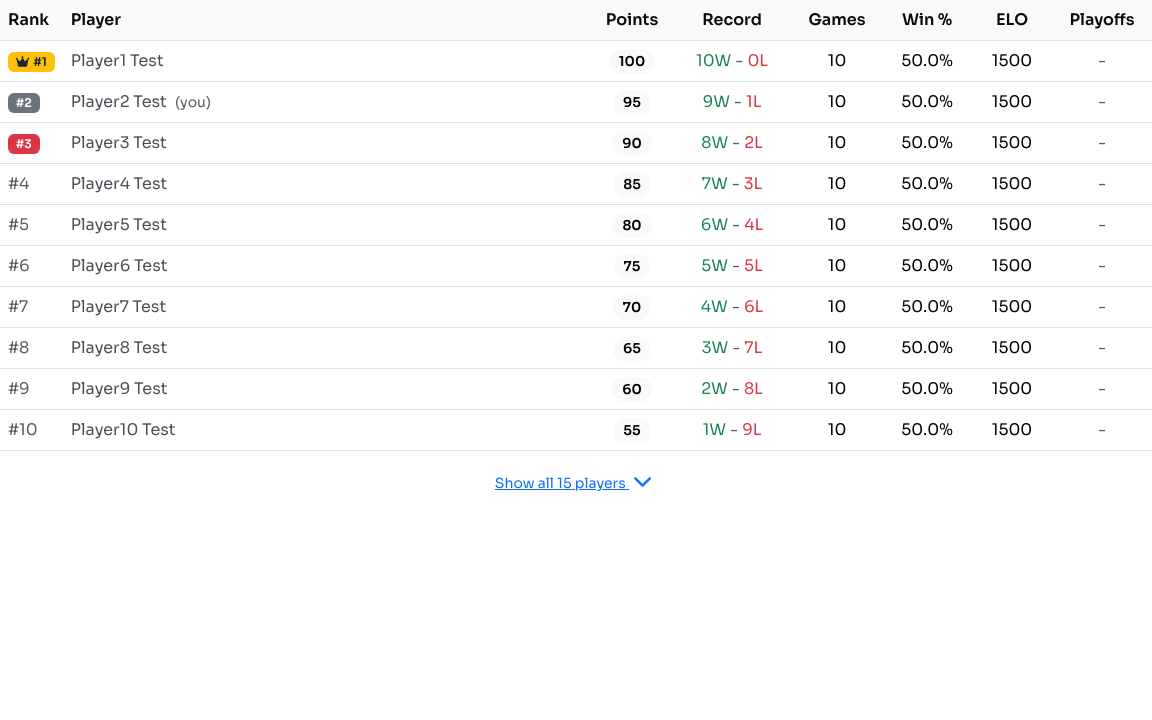
Test: LeaderboardSection › compact mode › should toggle back to show less when clicking "Show less"
# Show all
Step 1. Click the button "Show all 15 players" → (576, 483), box [486,467,666,499]
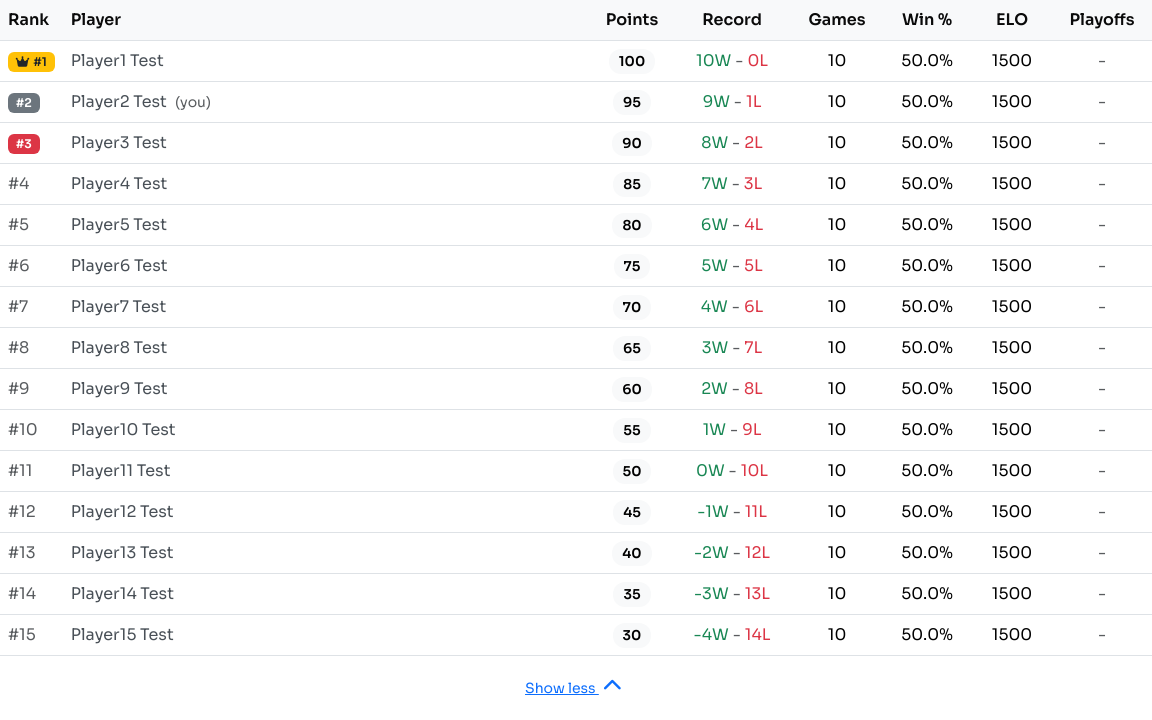
# Show less
Step 2. Click the button "Show less" → (576, 688), box [516,672,636,704]
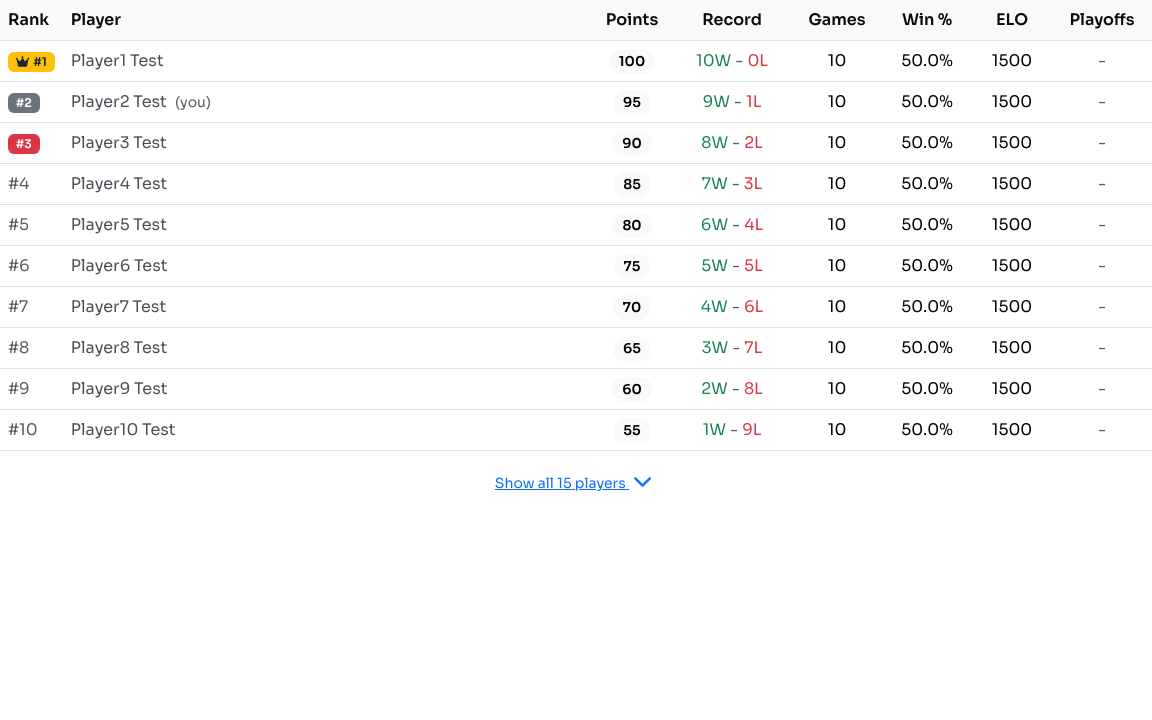
expect the link "Player11 Test" is gone: met
